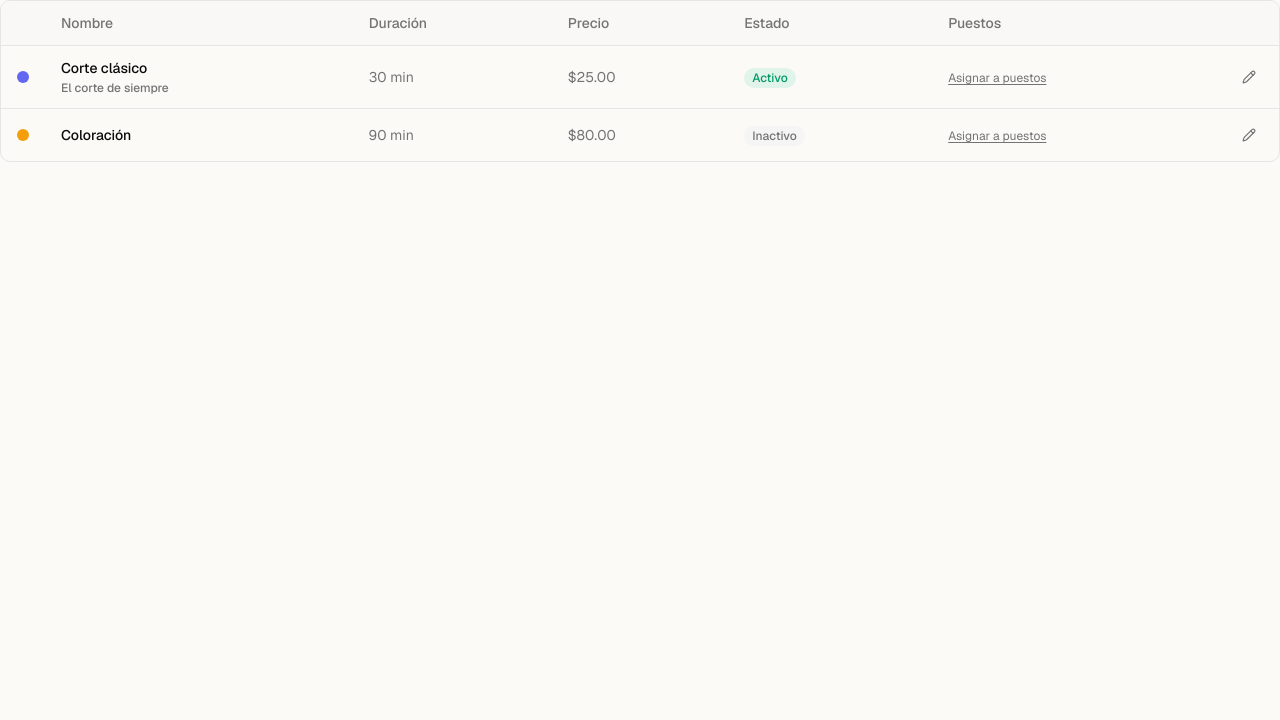
Test case: ServiceTable — diálogo de asignación › cierra el diálogo al hacer clic en Cancelar
This screenshot has width=1280, height=720.
Click the button "Asignar a puestos" in the row of "Corte clásico". click: (997, 78)
box: [948,70,1046,86]
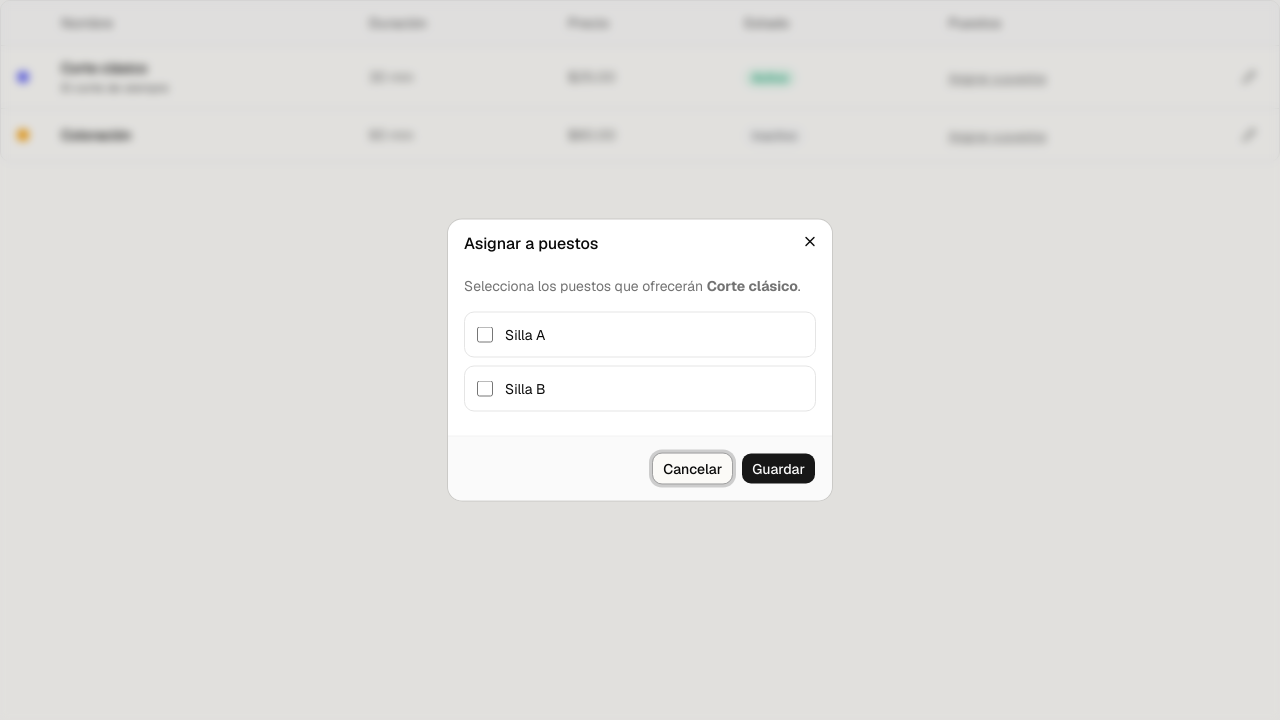
Now the dialog is shown, box [448,220,832,500]
Click the button "Cancelar". click: (693, 468)
box: [652,452,733,484]
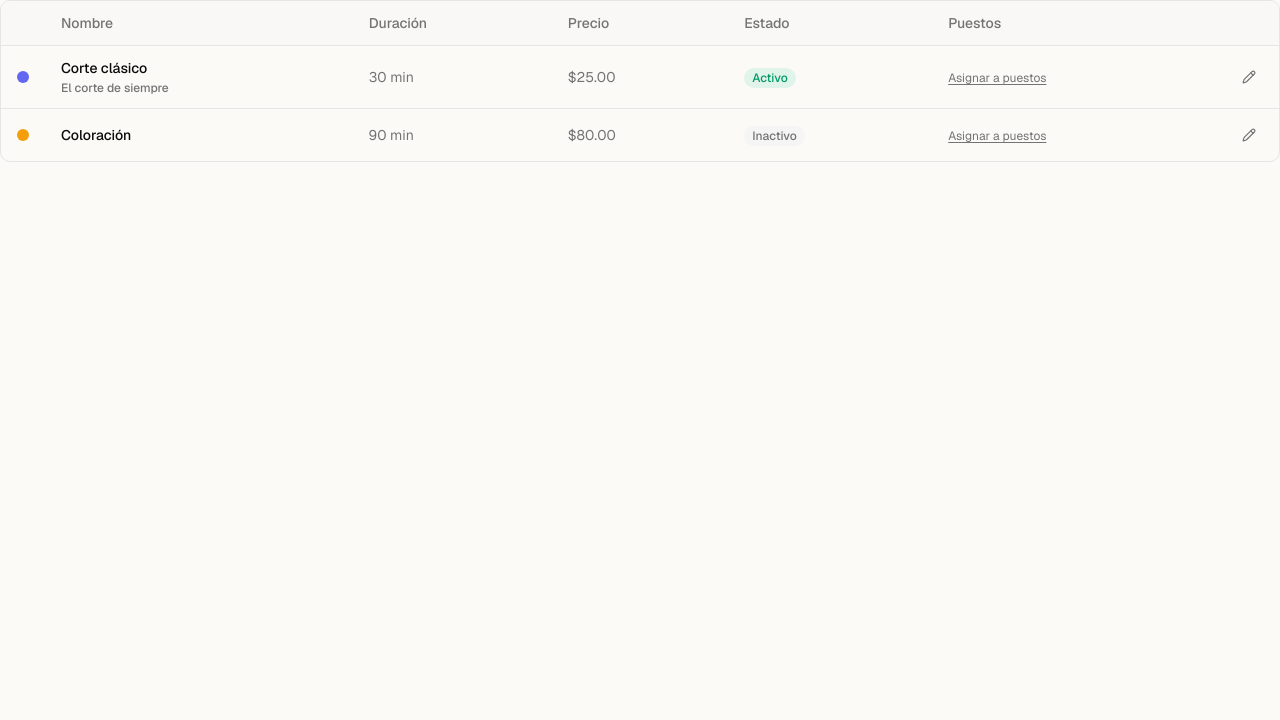
Now the dialog is gone
